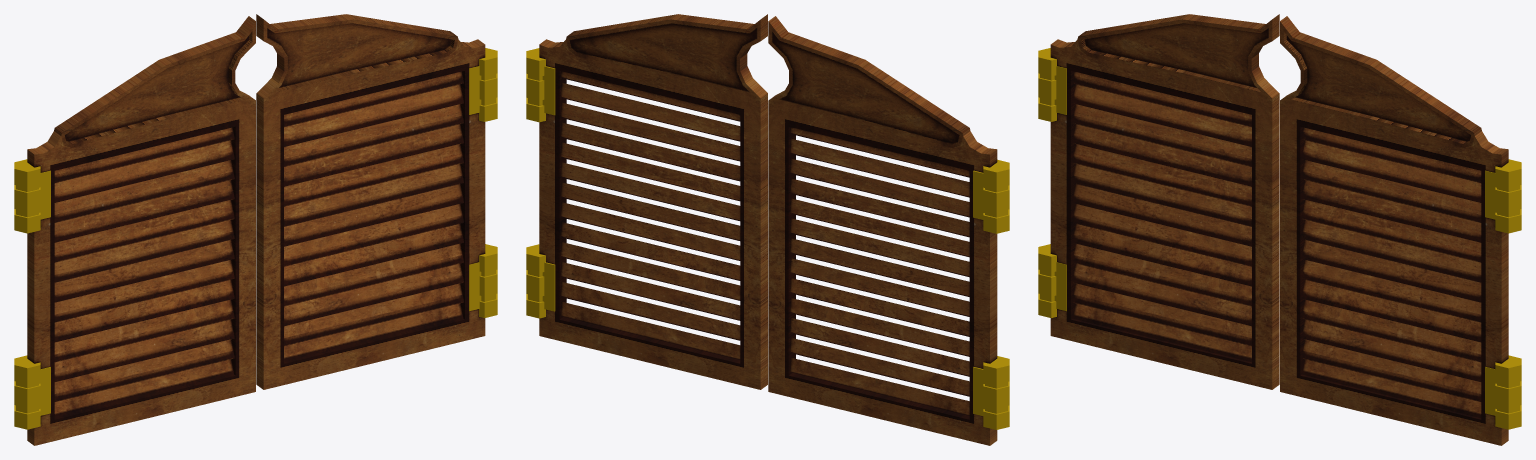
The model's file is PortinholaOW.fbx.
3 renders of one model, left to right at view 1: azimuth 30°, elevation 25°; view 2: azimuth 150°, elevation 25°; view 3: azimuth 330°, elevation 25°, orthographic.
Visible parts, largest first — view 1: PortinholaOW; view 2: PortinholaOW; view 3: PortinholaOW.
Boxes of the visible parts, box(x1,y1,x2,y2) form: PortinholaOW: box(14, 14, 497, 445); PortinholaOW: box(526, 14, 1009, 445); PortinholaOW: box(1038, 14, 1521, 445).
Bounding box in the file's own units: 188 × 138 × 8.91.
